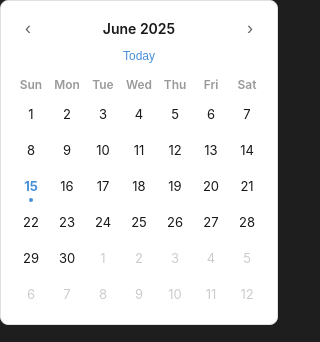
Test: Calendar › navigation › navigates with English aria labels
Click the button named "Previous month": coordinates (28, 28) [13,13,43,43]
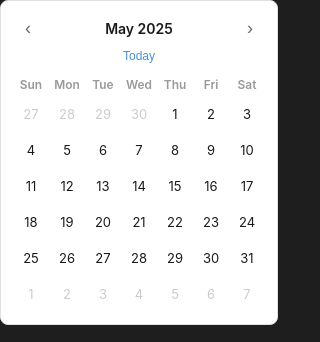
Result: the text "May 2025" is shown at [105,20,173,36]
Click the button named "Next month": coordinates (250, 28) [235,13,265,43]
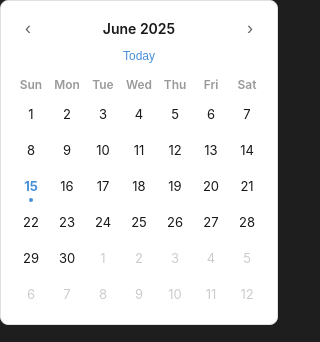
Result: the text "June 2025" is shown at [103,20,175,36]
